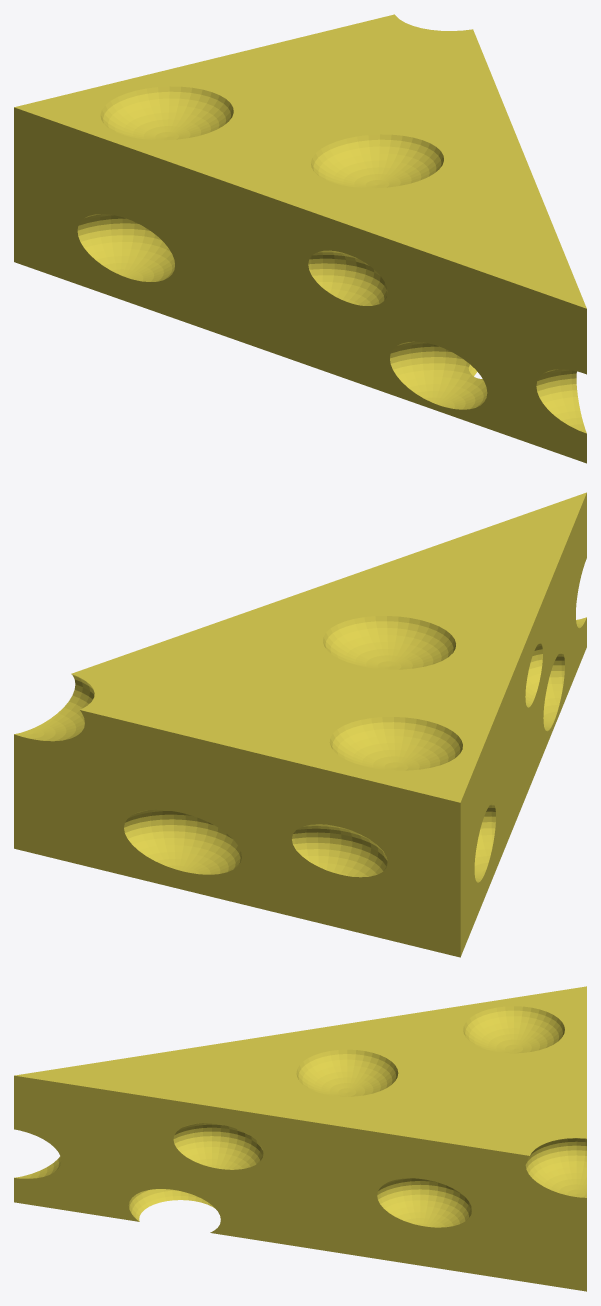
File: cheese.glb
The picture shows the model from 3 angles, top to bottom: view 1: azimuth 30°, elevation 25°; view 2: azimuth 150°, elevation 25°; view 3: azimuth 270°, elevation 25°; orthographic projection. The views are drawn at different scales.
Parts seen in each view (by area): view 1: Mesh_Mesh_head_geo.001_lambert2SG.001; view 2: Mesh_Mesh_head_geo.001_lambert2SG.001; view 3: Mesh_Mesh_head_geo.001_lambert2SG.001.
Boxes of the visible parts, <box> form: Mesh_Mesh_head_geo.001_lambert2SG.001: <box>14,14,586,463</box>; Mesh_Mesh_head_geo.001_lambert2SG.001: <box>14,492,586,957</box>; Mesh_Mesh_head_geo.001_lambert2SG.001: <box>14,986,586,1291</box>.
Bounding box in the file's own units: 0.0785 × 0.026 × 0.1065.
